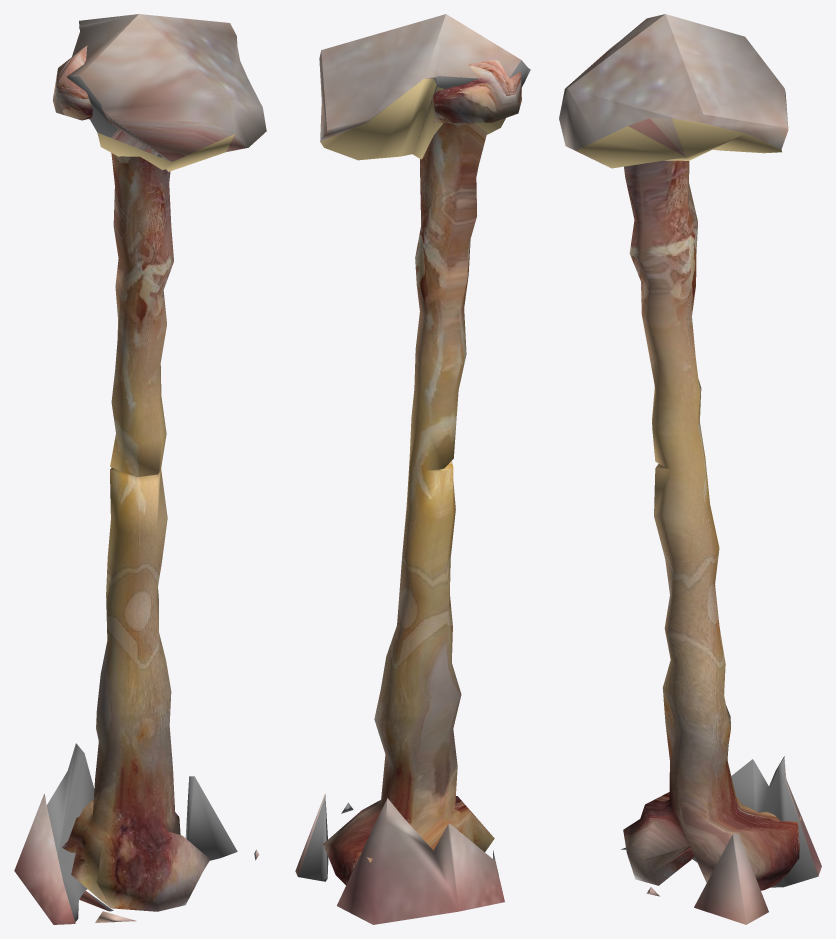
File: ChickenLeg-4.fbx
3 views of the same model, side by side, from view 1: azimuth 30°, elevation 25°; view 2: azimuth 150°, elevation 25°; view 3: azimuth 270°, elevation 25° (orthographic). The views are drawn at different scales.
Visible parts, largest first — view 1: bone.005, ChickenMeat.004; view 2: bone.005, ChickenMeat.004; view 3: bone.005, ChickenMeat.004.
Part boxes in pixels (<box>): bone.005: <box>53,45,210,911</box>; ChickenMeat.004: <box>14,14,266,924</box>; bone.005: <box>323,59,521,885</box>; ChickenMeat.004: <box>295,14,530,924</box>; bone.005: <box>623,160,801,890</box>; ChickenMeat.004: <box>559,14,821,924</box>.
Size of the model in its own units: 503 by 2256 by 614.
